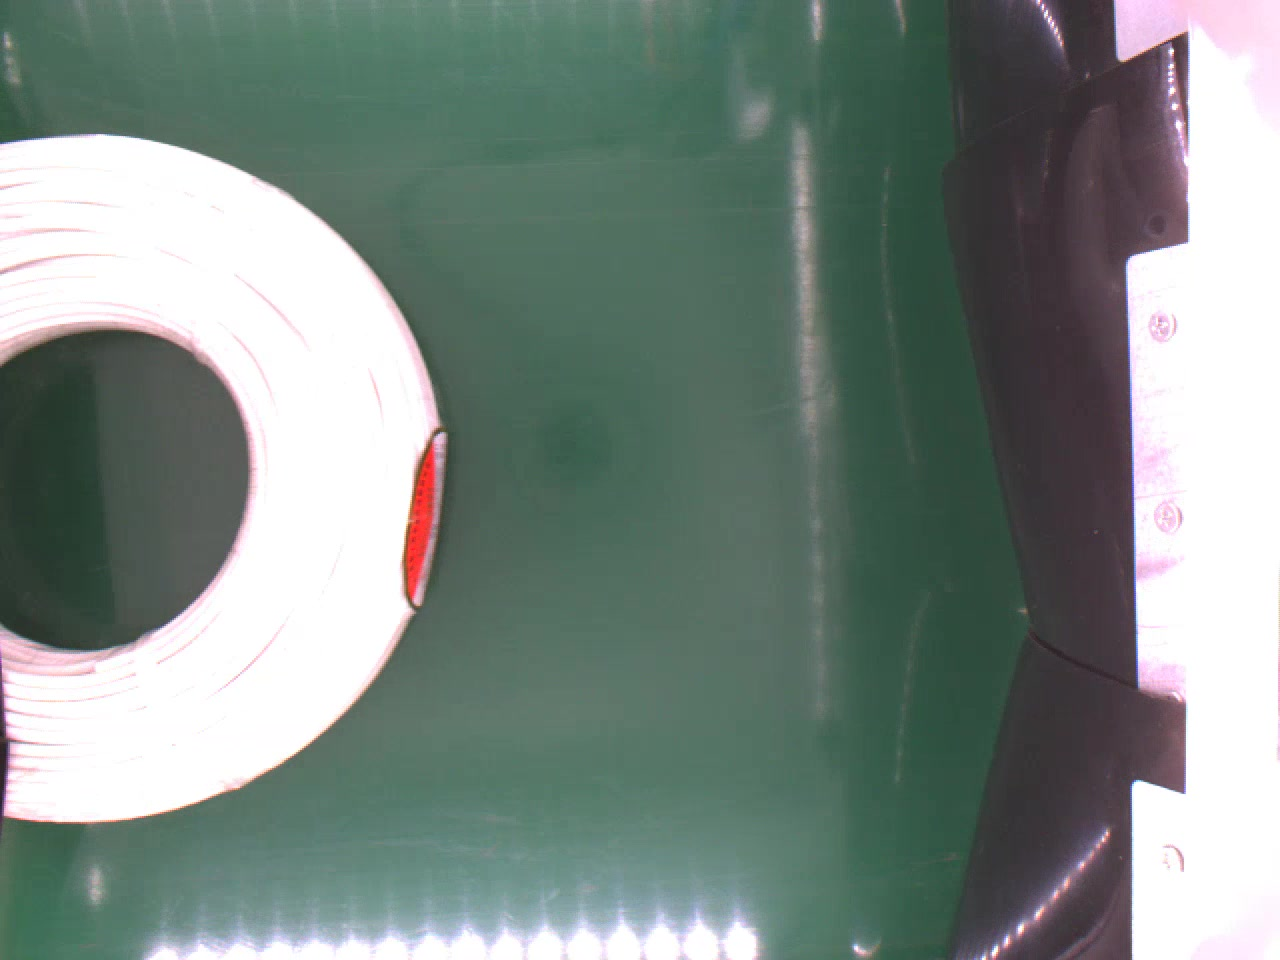white: (0, 132, 450, 827)
